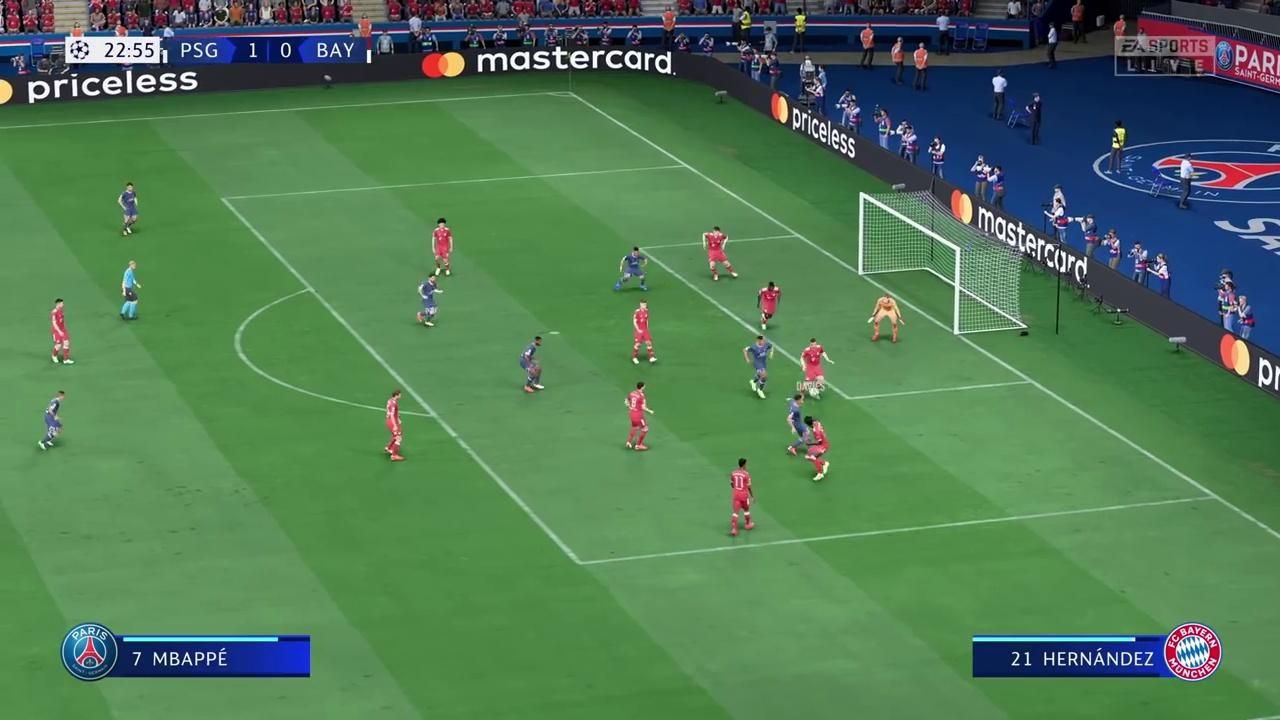scoreboard: (166, 37, 372, 64)
timestamp: (63, 35, 161, 65)
